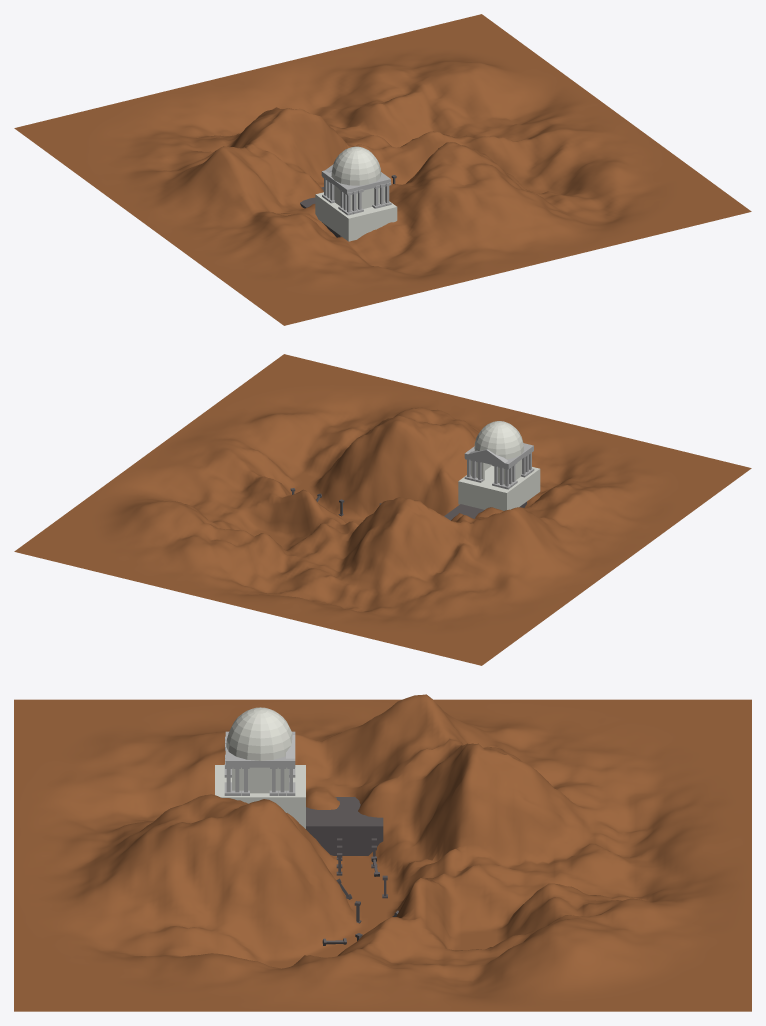
The model's file is env.fbx.
3 views of the same model, one above another, from view 1: azimuth 30°, elevation 25°; view 2: azimuth 150°, elevation 25°; view 3: azimuth 270°, elevation 25° (orthographic). The views are drawn at different scales.
Parts seen in each view (by area): view 1: Landscape, temple; view 2: Landscape, temple; view 3: Landscape, temple, Cube.001, Cube.006.
Part boxes in pixels (x1=…): Landscape: x1=14, y1=14, x2=751, y2=325; temple: x1=315, y1=146, x2=397, y2=241; Landscape: x1=14, y1=354, x2=751, y2=665; temple: x1=458, y1=421, x2=540, y2=510; Landscape: x1=14, y1=694, x2=751, y2=1011; temple: x1=215, y1=707, x2=305, y2=828; Cube.001: x1=306, y1=797, x2=383, y2=855; Cube.006: x1=322, y1=838, x2=398, y2=945.
Bounding box in the file's own units: 851 × 170 × 851.
